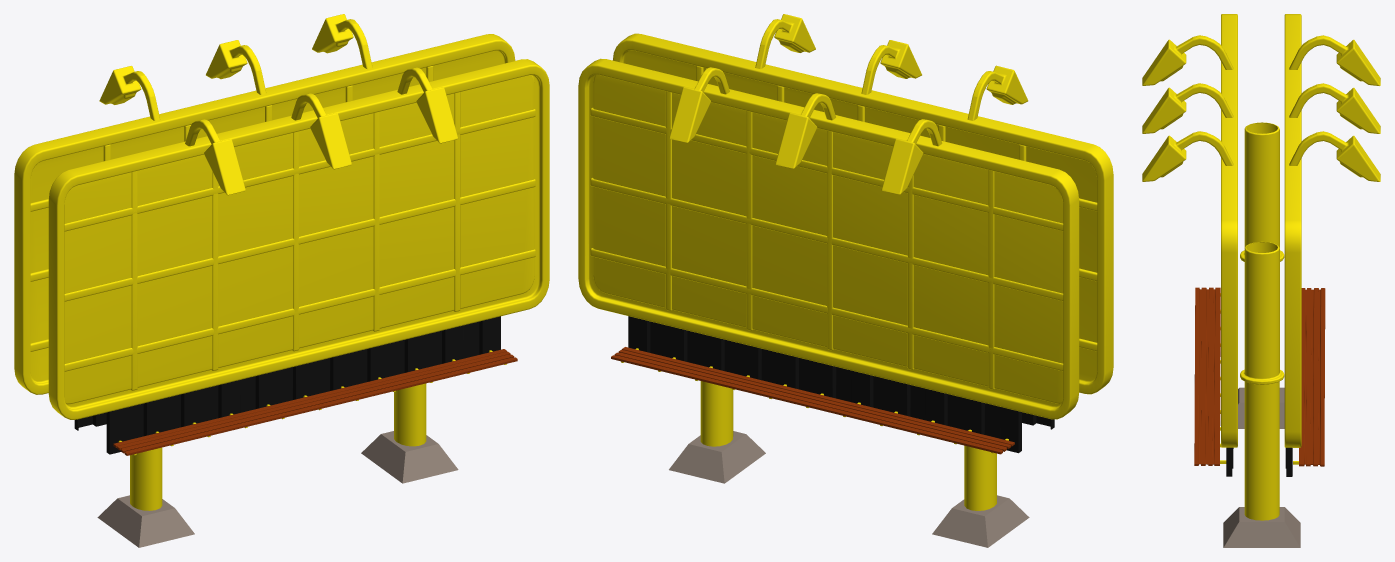
File: billboard4.glb
The picture shows the model from 3 angles, left to right: view 1: azimuth 30°, elevation 25°; view 2: azimuth 150°, elevation 25°; view 3: azimuth 270°, elevation 25°; orthographic projection. The views are drawn at different scales.
Parts seen in each view (by area): view 1: Bill_board_Cube.008_Cube.007, Cube; view 2: Bill_board_Cube.008_Cube.007, Cube; view 3: Bill_board_Cube.008_Cube.007, Cube.
Part boxes in pixels (x1,y1,x2,y2): Bill_board_Cube.008_Cube.007: (14, 14, 549, 510); Cube: (97, 431, 458, 547); Bill_board_Cube.008_Cube.007: (578, 14, 1113, 510); Cube: (669, 431, 1029, 547); Bill_board_Cube.008_Cube.007: (1142, 14, 1380, 520); Cube: (1223, 387, 1300, 547).
Bounding box in the file's own units: 17.5 × 14.35 × 7.91.
